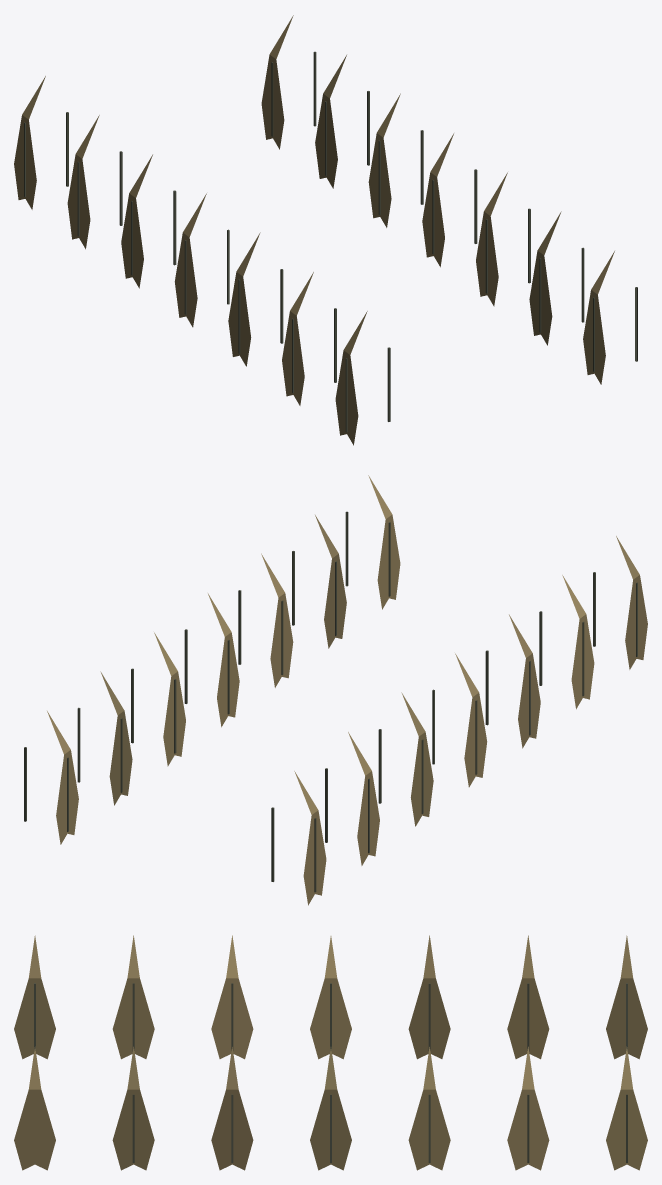
Rendered from stockfish.glb.
3 renders of one model, top to bottom at view 1: azimuth 30°, elevation 25°; view 2: azimuth 150°, elevation 25°; view 3: azimuth 270°, elevation 25°, orthographic. The views are drawn at different scales.
Visible parts, largest first — view 1: stockfish; view 2: stockfish; view 3: stockfish.
Part boxes in pixels (x1=…): stockfish: x1=14, y1=15, x2=637, y2=445; stockfish: x1=24, y1=475, x2=647, y2=905; stockfish: x1=14, y1=935, x2=647, y2=1170.
Bounding box in the file's own units: 2.35 × 0.9697 × 4.82.
